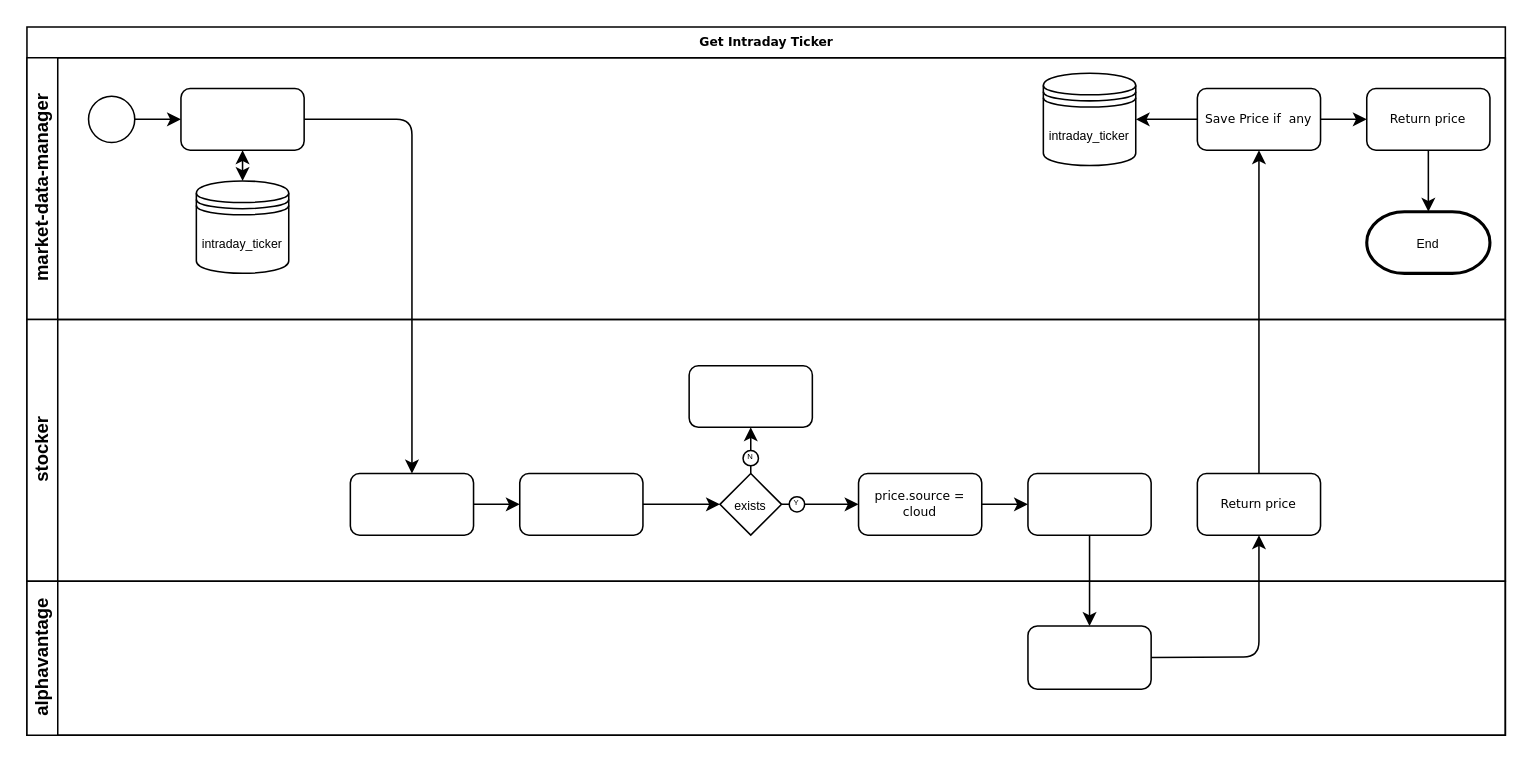
Image size: 1532x762. Some labels were removed from this diagram. The centre of each missing label's shape, as x and y in pixels:
"Check Price Source from Config" goes at pixel 580 503.
"Get Price from DB" goes at pixel 241 118.
"Pull intraday stock price" goes at pixel 411 503.
"Retrive Price" goes at pixel 1088 656.
"Set status = 'No Price Source Config'" goes at pixel 750 395.
"Use connection data from config to pull price from cloud" goes at pixel 1088 503.
